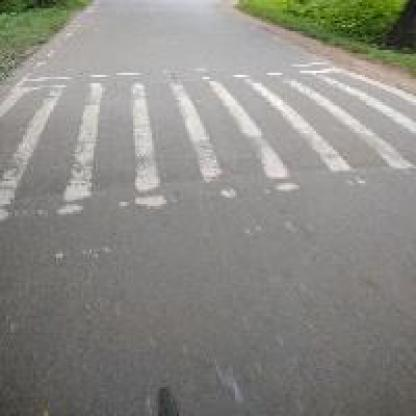Speed Bump: (2, 58, 410, 266)
